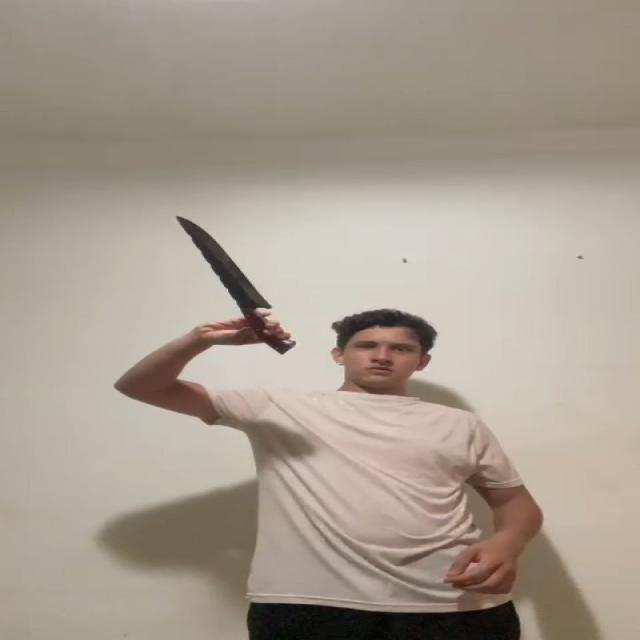knife: (175, 216, 275, 310)
